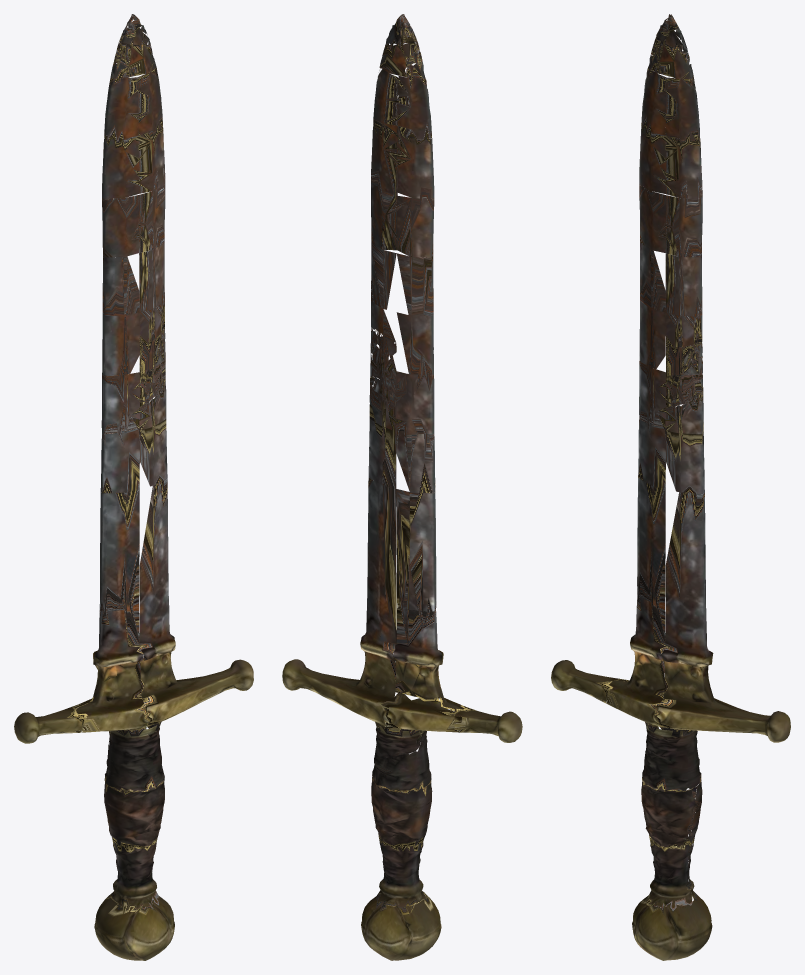
The model's file is w_rust_sword.glb.
3 renders of one model, left to right at view 1: azimuth 30°, elevation 25°; view 2: azimuth 150°, elevation 25°; view 3: azimuth 330°, elevation 25°, orthographic.
Parts seen in each view (by area): view 1: geometry_0; view 2: geometry_0; view 3: geometry_0.
Boxes of the visible parts, x1,y1,x2,y2 form: geometry_0: (14, 14, 253, 960); geometry_0: (282, 14, 522, 960); geometry_0: (551, 14, 790, 960).
Bounding box in the file's own units: 0.2872 × 1.1 × 0.082.
1 material, 1 textured.
